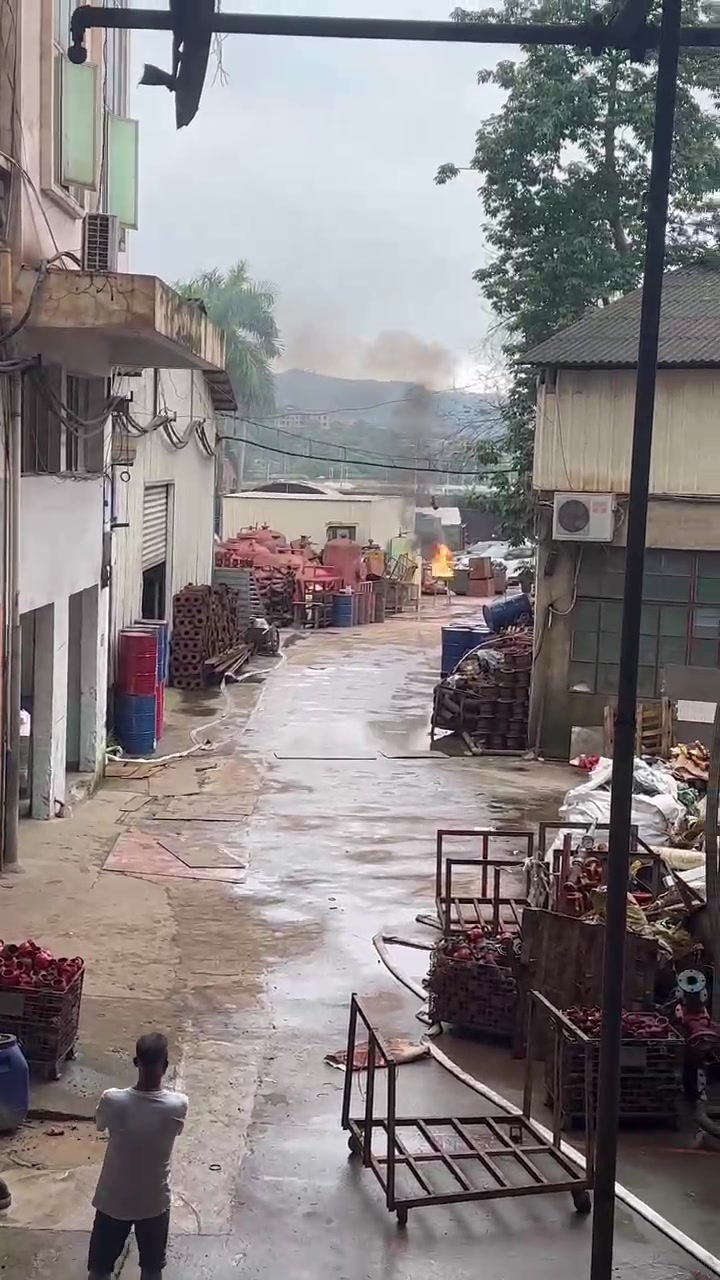fire: (431, 542, 453, 576)
